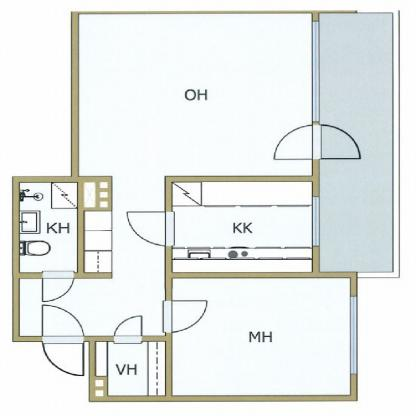door: (274, 123, 363, 166), (40, 304, 88, 379), (125, 210, 178, 248), (163, 300, 212, 332), (41, 270, 75, 304), (115, 314, 144, 346)
window: (313, 21, 321, 125), (350, 296, 359, 376), (311, 196, 320, 248)
zone: (78, 14, 313, 175), (20, 175, 167, 334), (172, 278, 350, 394), (317, 15, 392, 270), (170, 183, 311, 271), (20, 181, 77, 272), (98, 341, 163, 395)
